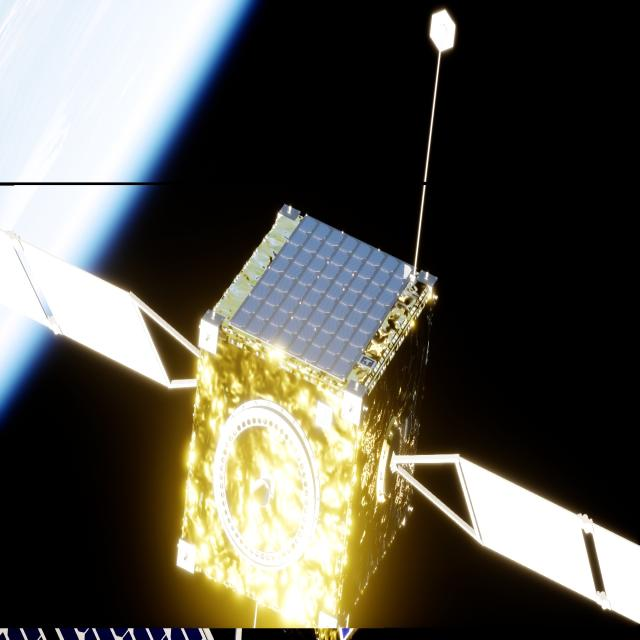satellite: (0, 207, 640, 635)
